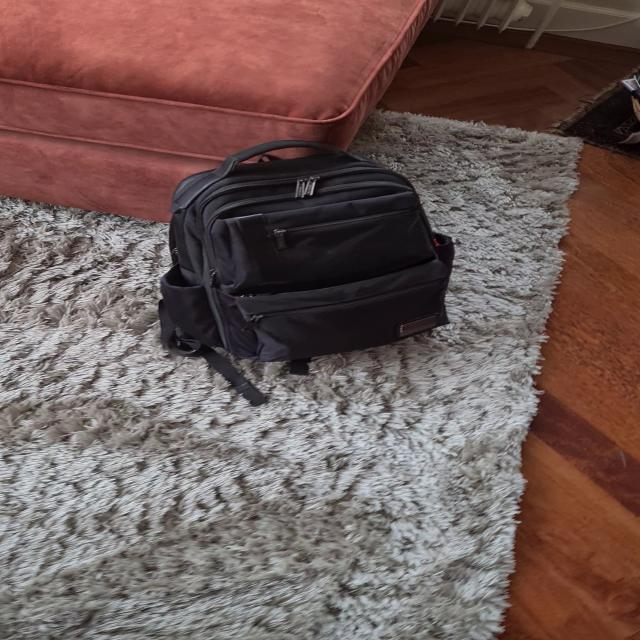backpack: (143, 136, 460, 376)
